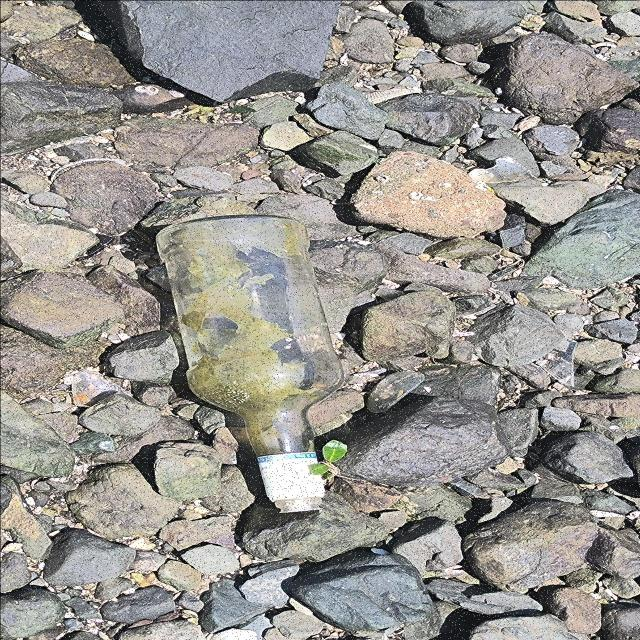glass_waste: (153, 215, 347, 515)
